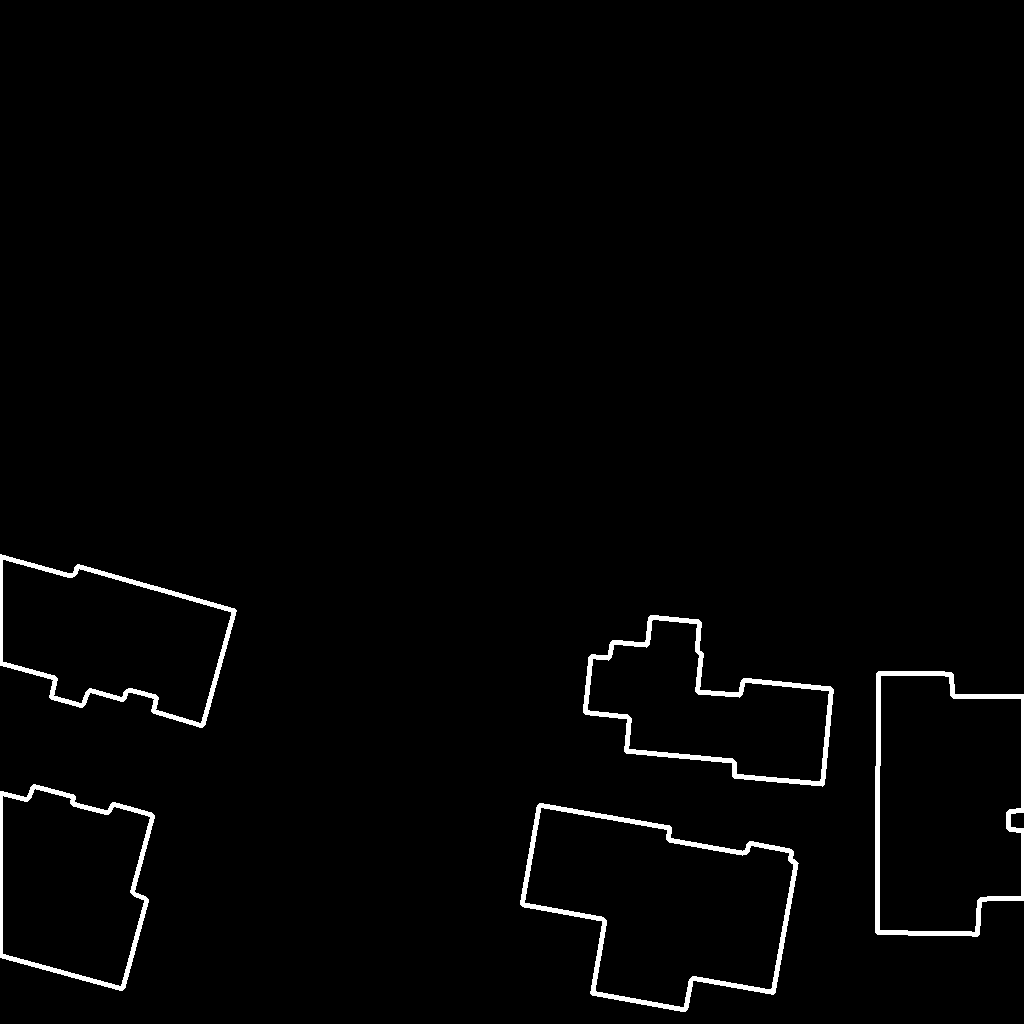building: (522, 805, 797, 1011), (585, 617, 833, 785), (0, 556, 236, 727), (877, 673, 1024, 935), (0, 786, 154, 990), (534, 1022, 537, 1024)
